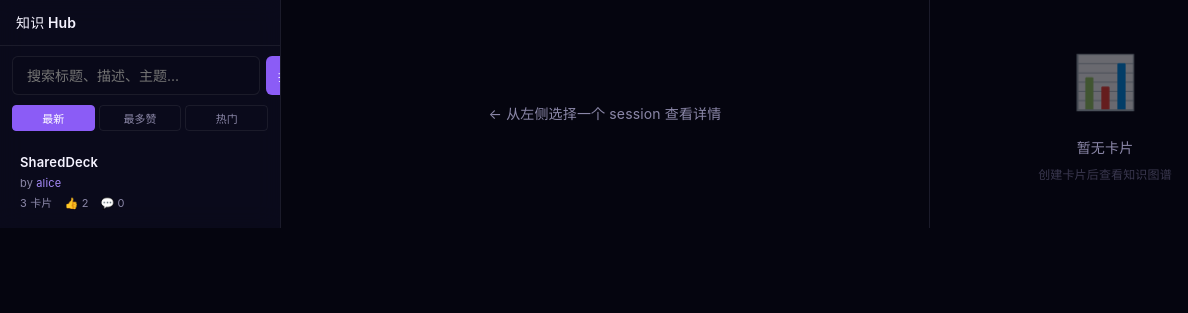
Test: HubPage 游客态 › 游客看不到评论输入框，但能看到导入入口
Check: the text "by" is shown, box [20,176,33,190]
Step 1. Click the element with class "hub-session-item" → (59, 162), box [20,154,125,210]
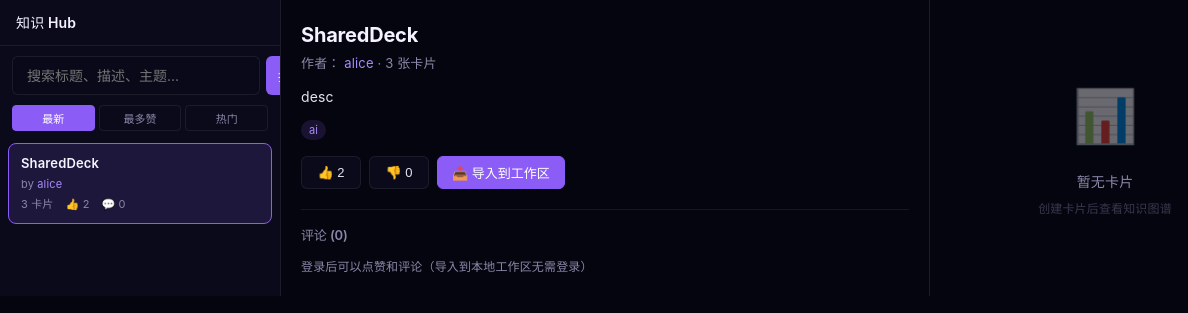
Check: the button "📥 导入到工作区" is shown, box [437,156,565,189]
Check: the text "登录后可以点赞和评论（导入到本地工作区无需登录）" is shown, box [301,259,593,274]
